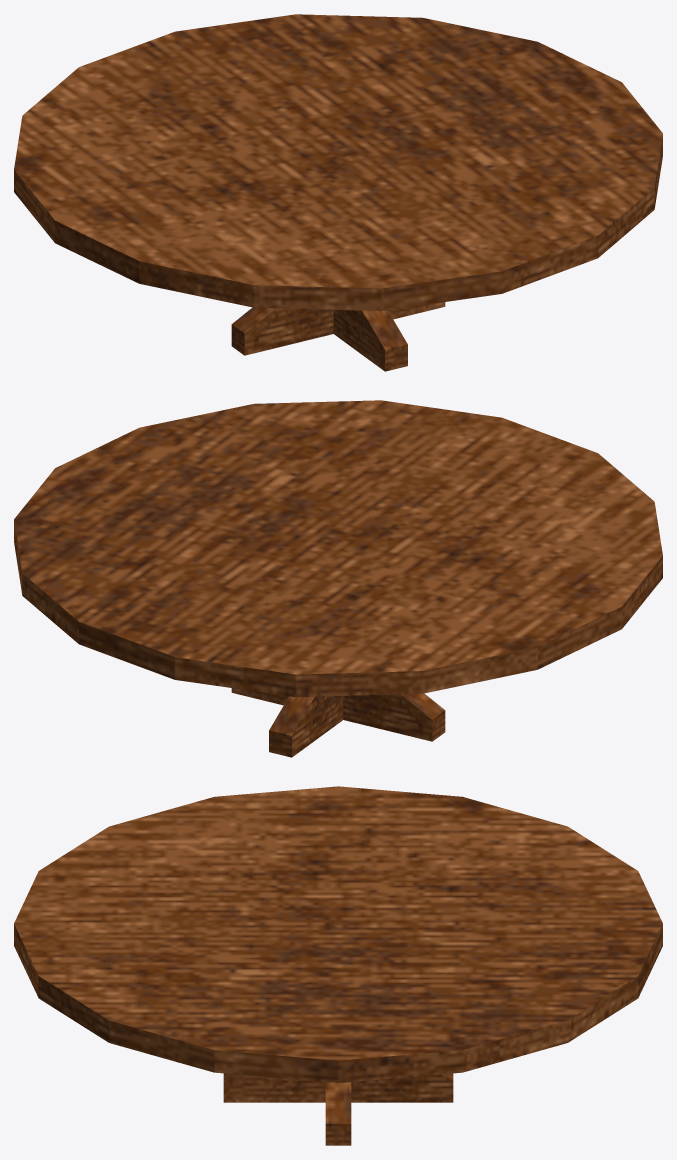
File: SM_Dungeon_Table_Round.fbx
The picture shows the model from 3 angles, top to bottom: view 1: azimuth 30°, elevation 25°; view 2: azimuth 150°, elevation 25°; view 3: azimuth 270°, elevation 25°; orthographic projection.
Visible parts, largest first — view 1: SM_Dungeon_Table_Round; view 2: SM_Dungeon_Table_Round; view 3: SM_Dungeon_Table_Round.
Boxes of the visible parts, x1,y1,x2,y2 form: SM_Dungeon_Table_Round: [14, 14, 662, 371]; SM_Dungeon_Table_Round: [14, 400, 662, 757]; SM_Dungeon_Table_Round: [14, 786, 662, 1145].
Bounding box in the file's own units: 287 × 84.73 × 287.
